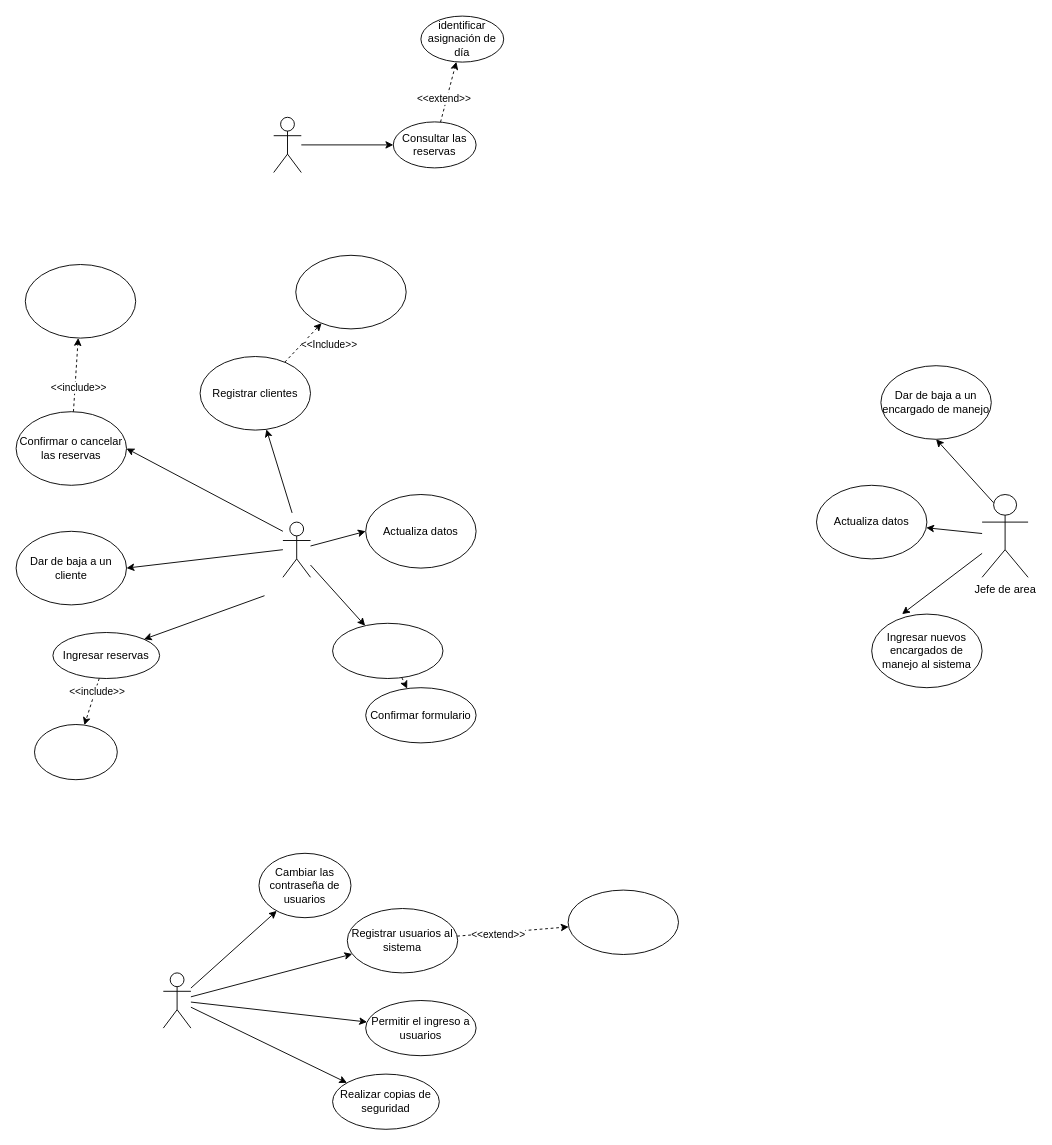
Image size: 1052x1145. Some labels were removed from this diagram. The centre of each missing label's shape, as x and y in pixels:
"Buscar cliente o encargado de manejo" belongs at point 350,291.
"Buscar cliente y datos" belongs at point 75,752.
"Encargado de computo" belongs at point 176,1000.
"Encargados de manejo" belongs at point 287,144.
"Generar perfil" belongs at point 622,921.
"Guardar arrendamientos" belongs at point 387,650.
"Personal operativo" belongs at point 296,549.
"Ubicar reserva" belongs at point 80,301.
